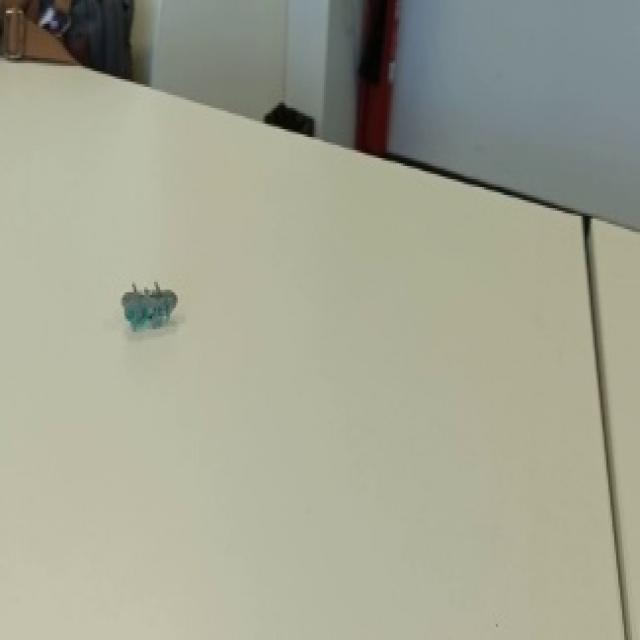5_NanoBug_GrisClaro: (101, 264, 205, 353)
